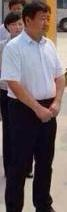boots: (0, 145, 9, 158), (25, 170, 33, 178)
ppe-suit: (0, 19, 29, 204)
